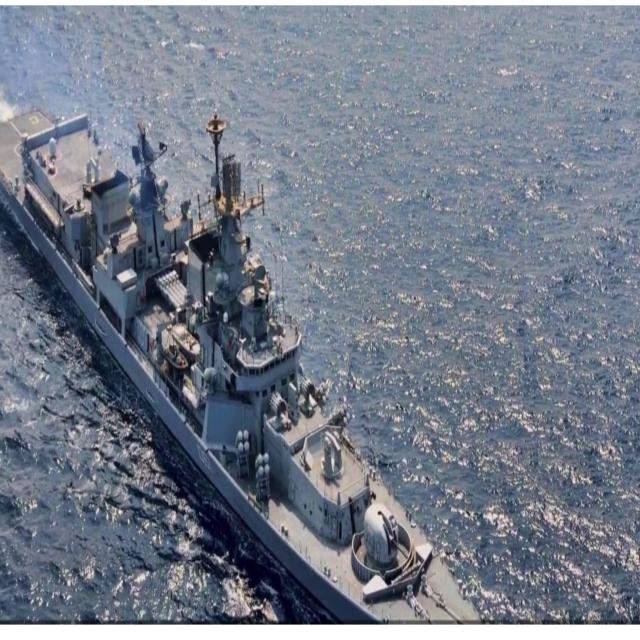OCR: (193, 435, 219, 483)
